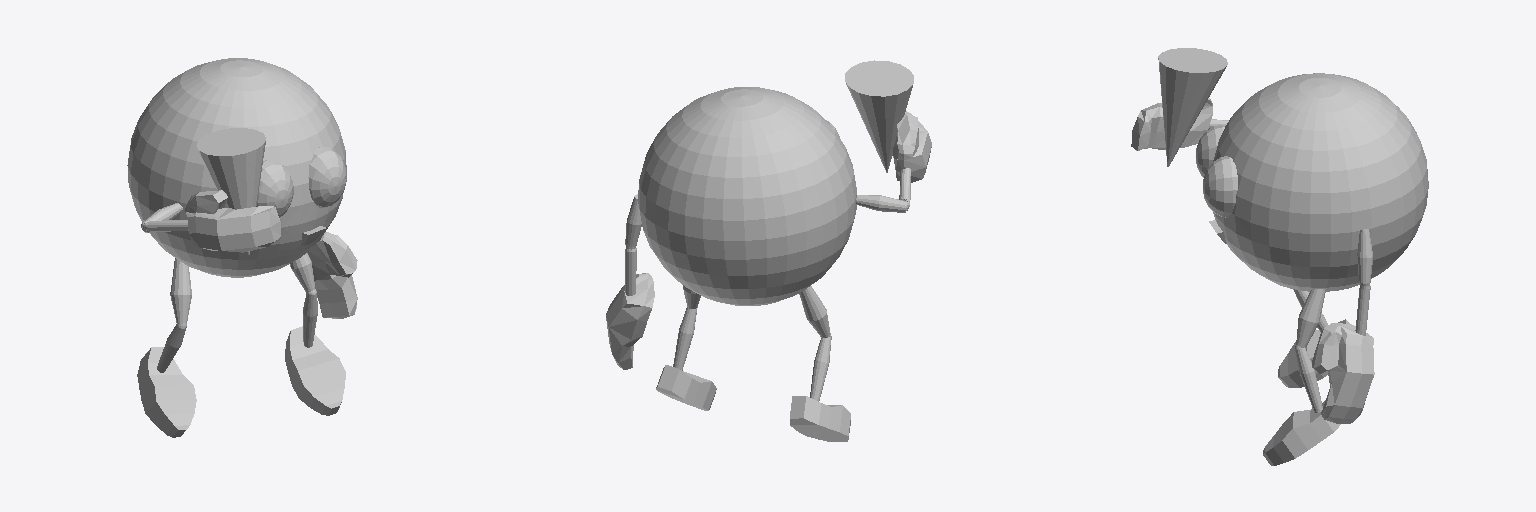
File: stepLeft_000036.obj
3 views of the same model, side by side, from view 1: azimuth 30°, elevation 25°; view 2: azimuth 150°, elevation 25°; view 3: azimuth 270°, elevation 25° (orthographic).
Visible parts, largest first — view 1: Rusko_Sphere; view 2: Rusko_Sphere; view 3: Rusko_Sphere.
Boxes of the visible parts, x1=… form: Rusko_Sphere: x1=127, y1=58, x2=357, y2=437; Rusko_Sphere: x1=606, y1=60, x2=931, y2=441; Rusko_Sphere: x1=1131, y1=48, x2=1428, y2=465.
Size of the model in its own units: 5.36 by 6.95 by 5.41.